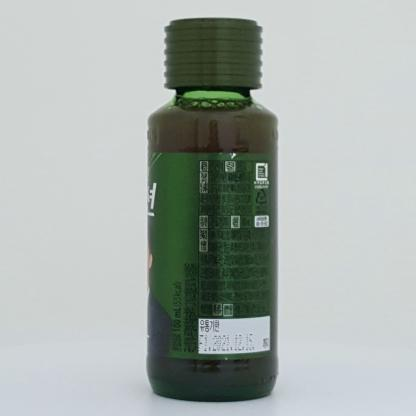CJ-----100ML: (146, 17, 279, 402)
